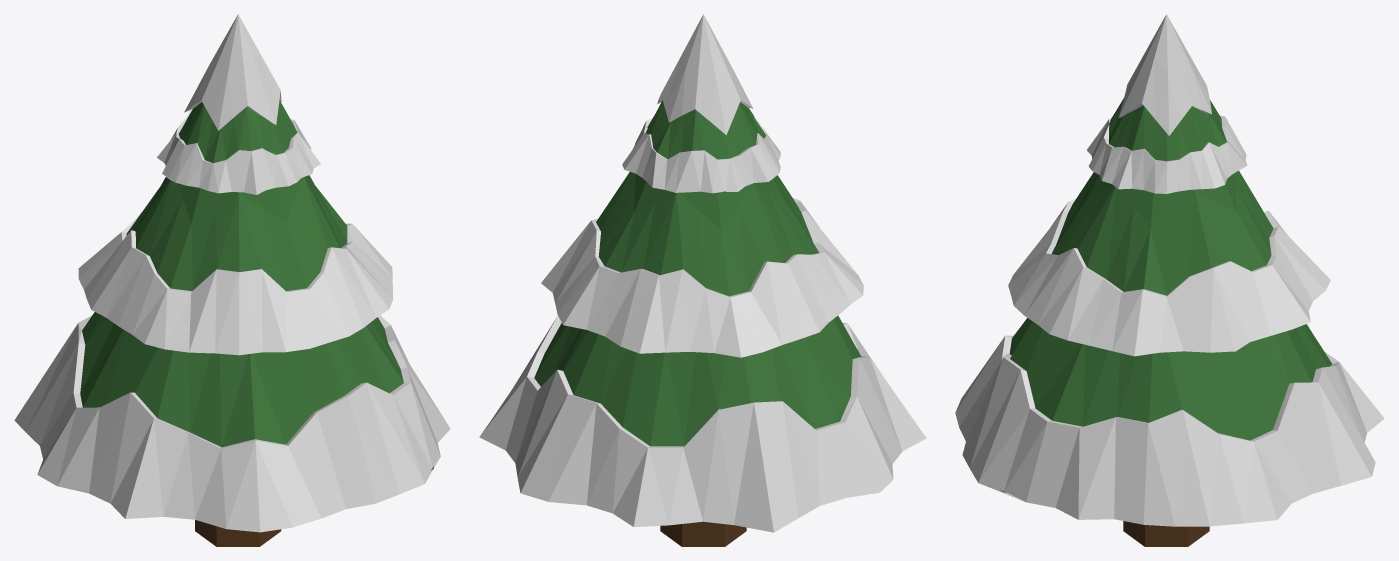
Rendered from sneeuwboom.dae.
The picture shows the model from 3 angles, left to right: view 1: azimuth 30°, elevation 25°; view 2: azimuth 150°, elevation 25°; view 3: azimuth 270°, elevation 25°; orthographic projection.
Visible parts, largest first — view 1: Cone_002, Cone_001, Cone, Cylinder; view 2: Cone_002, Cone_001, Cone, Cylinder; view 3: Cone_002, Cone_001, Cone, Cylinder.
Boxes of the visible parts, x1,y1,x2,y2 form: Cone_002: [14, 312, 450, 532]; Cone_001: [78, 175, 392, 355]; Cone: [157, 14, 320, 194]; Cylinder: [195, 520, 281, 546]; Cone_002: [479, 315, 926, 532]; Cone_001: [541, 172, 863, 357]; Cone: [622, 14, 780, 193]; Cylinder: [660, 521, 746, 546]; Cone_002: [955, 318, 1384, 526]; Cone_001: [1008, 170, 1330, 356]; Cone: [1087, 14, 1247, 193]; Cylinder: [1123, 521, 1209, 546].
Bounding box in the file's own units: 4.97 × 4.98 × 6.61.
